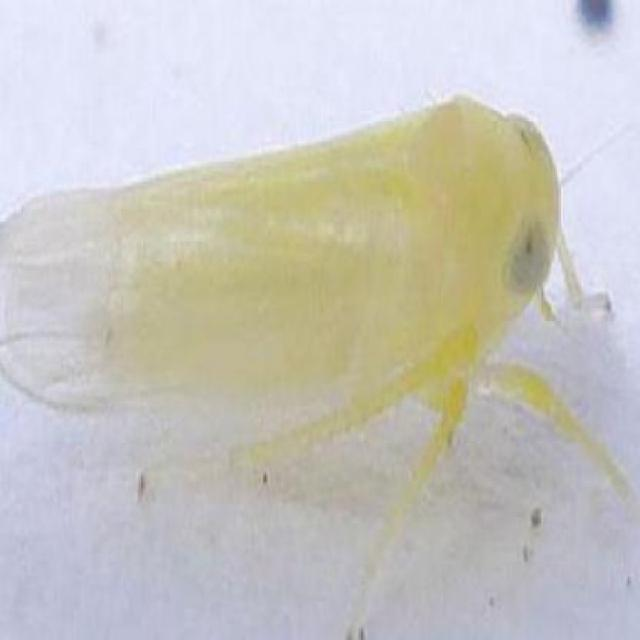green-leafhopper: (10, 110, 552, 404)
